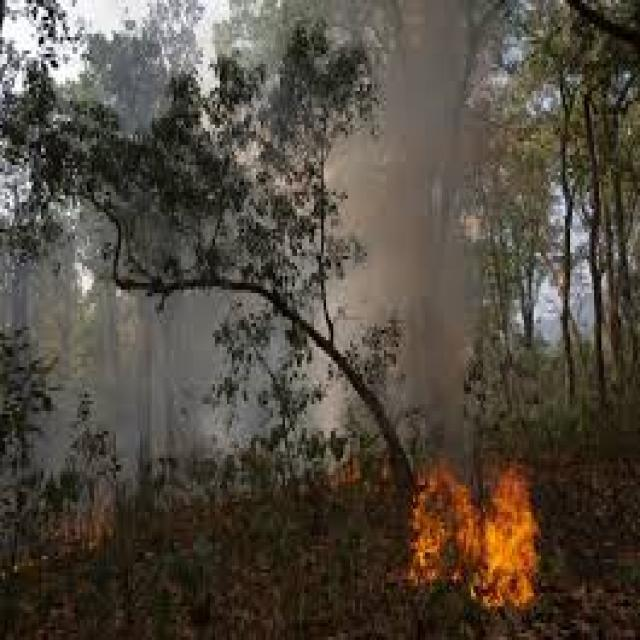Fire: (406, 449, 549, 619)
Smoke: (345, 4, 520, 440), (39, 304, 224, 502)
